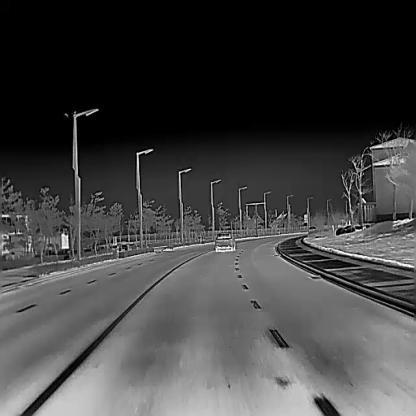car: (215, 231, 235, 250), (308, 224, 316, 232)
